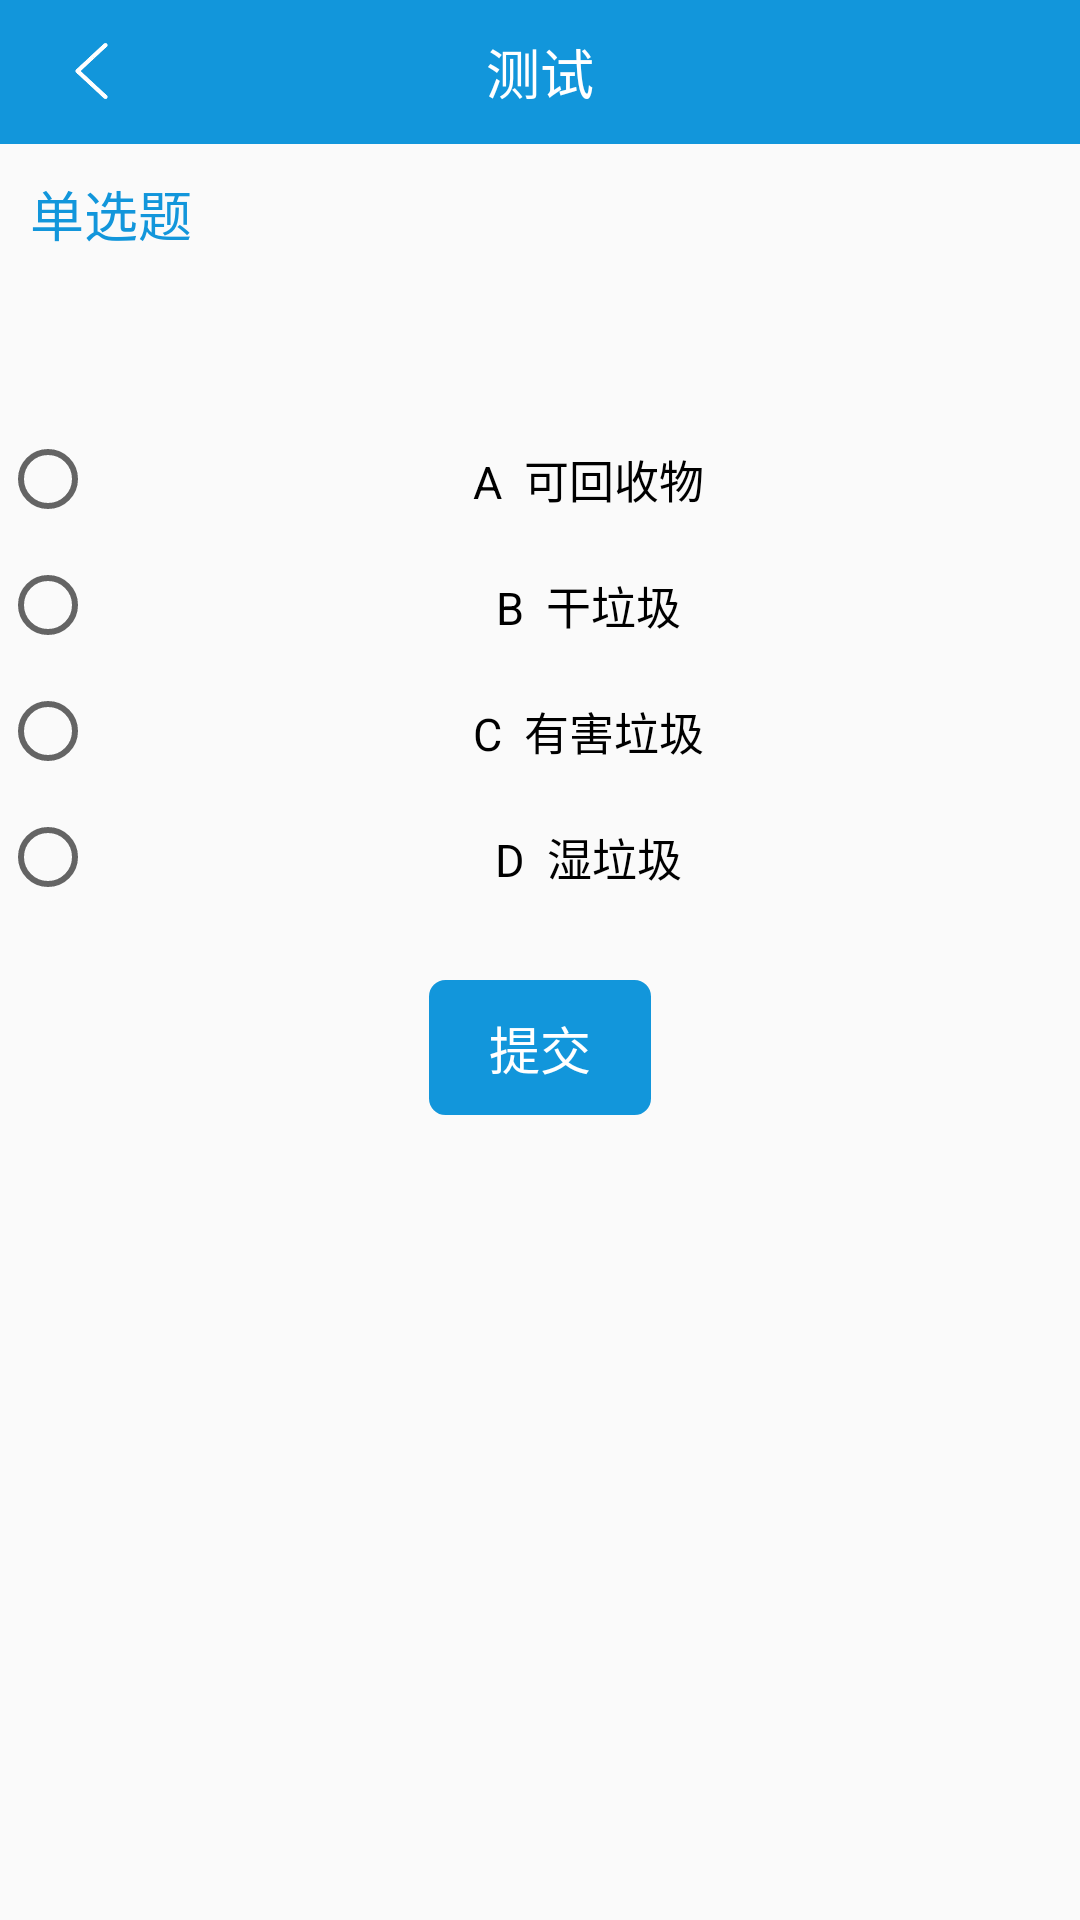

Screen size 1080px×1920px. Icon name, then its center in pixels as (x,y):
back: (91,71)
